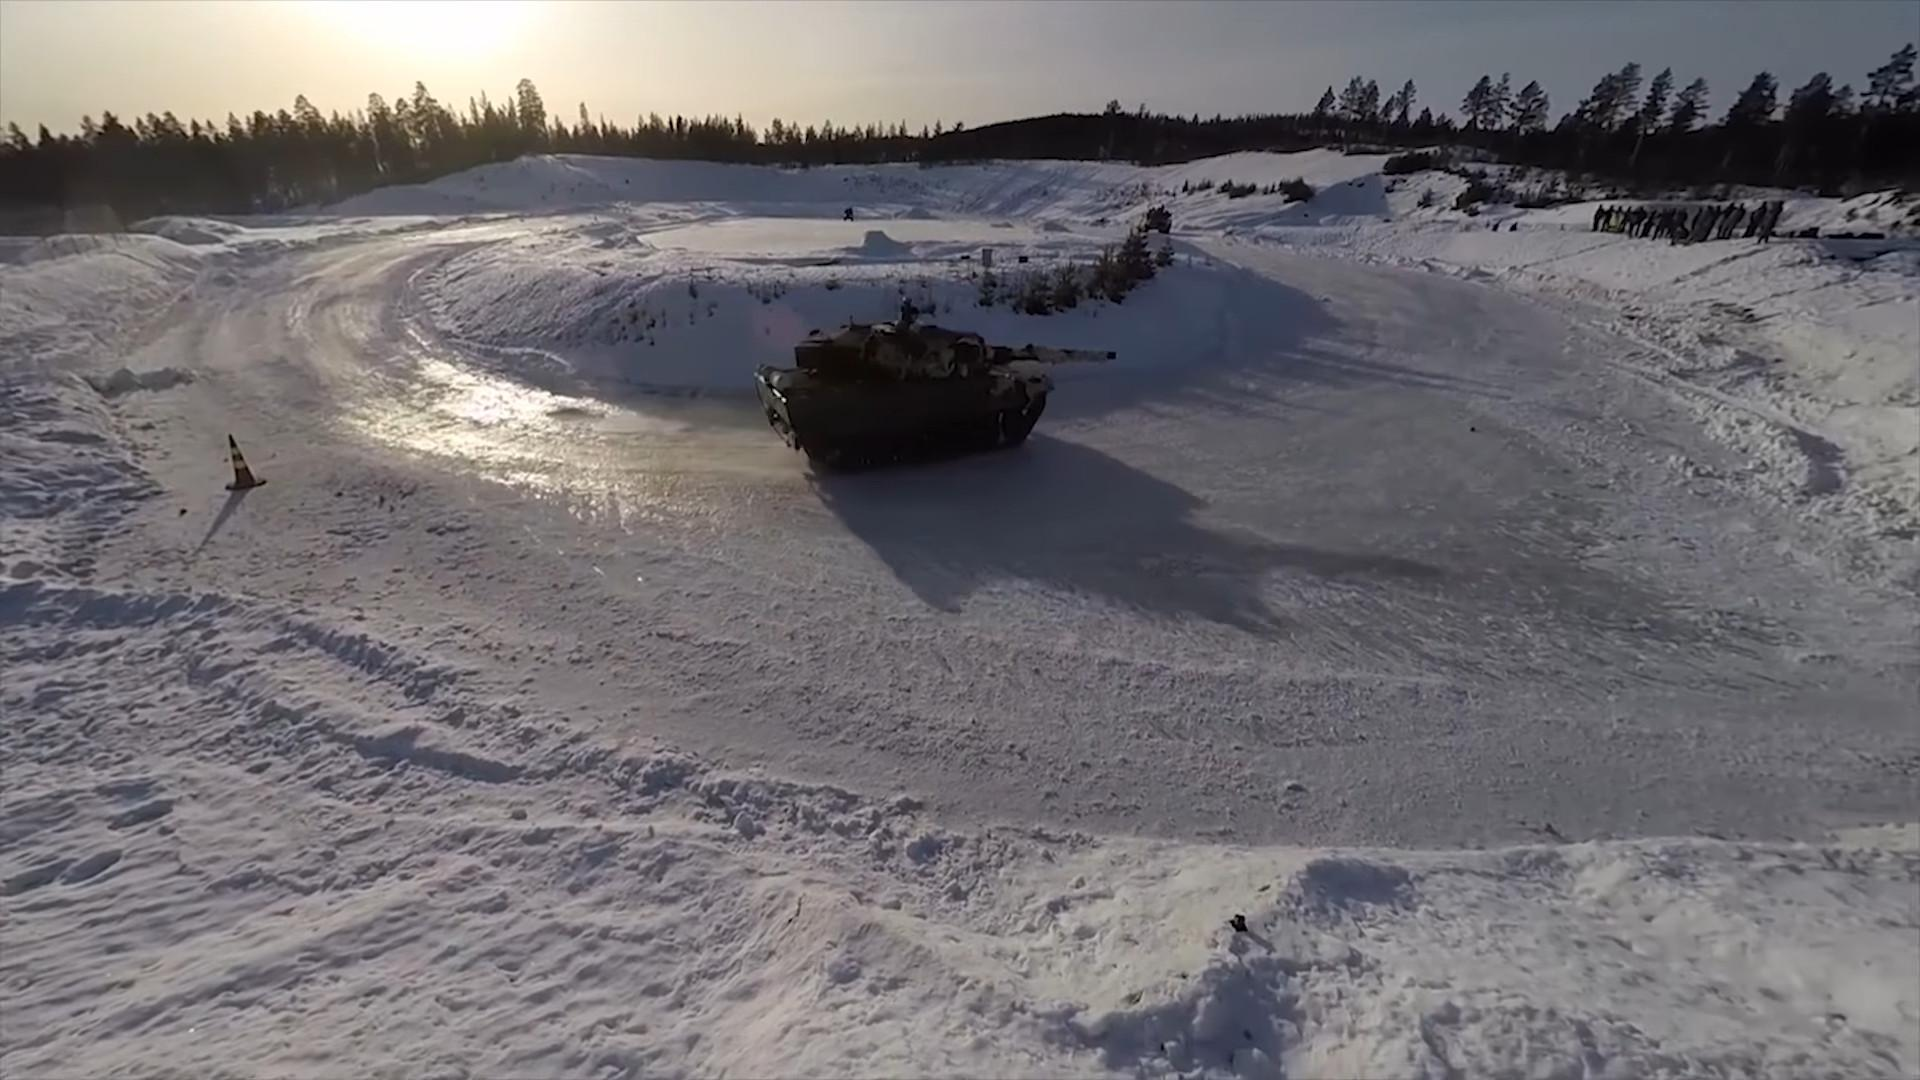tank: (756, 313, 1118, 469)
